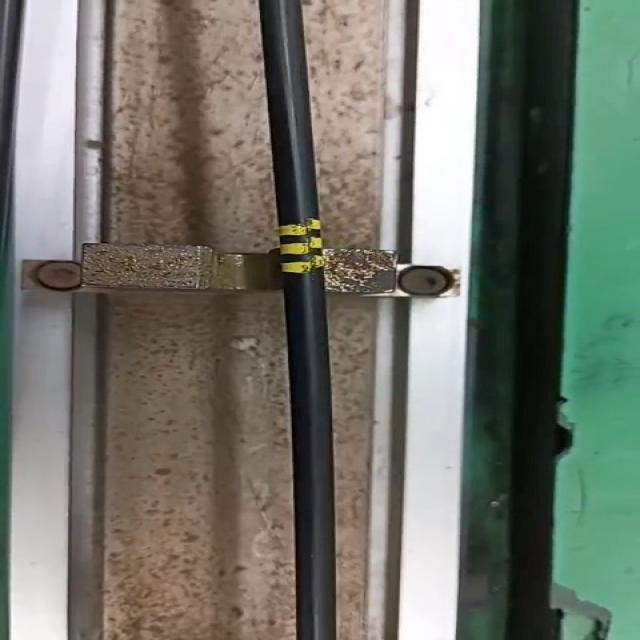yellow: (277, 220, 327, 274)
